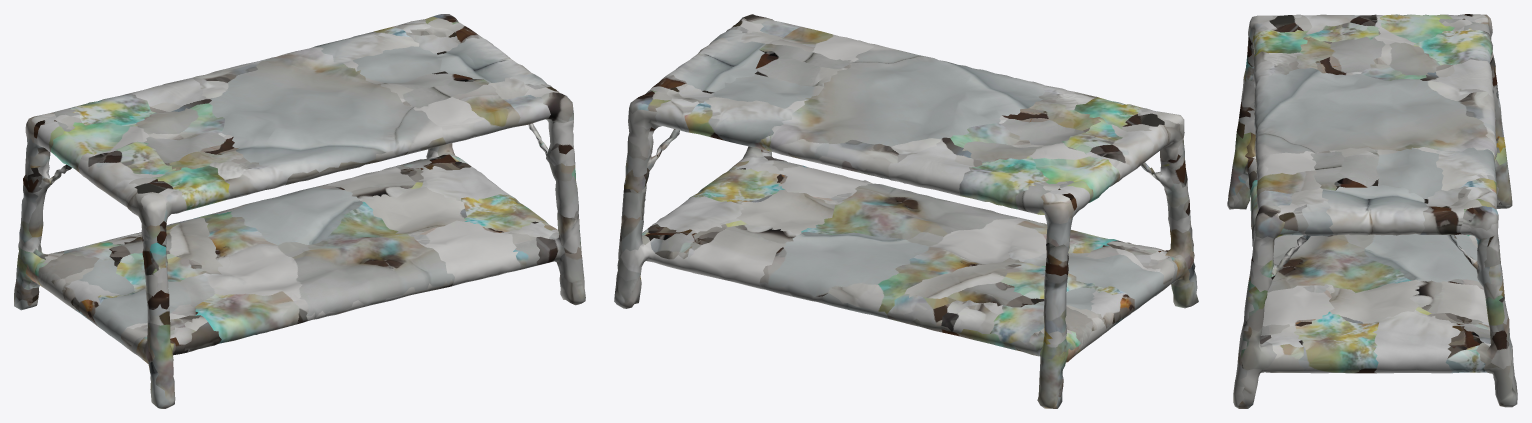
The model's file is Larenda_Coffee_Table_0723210353.obj.
3 views of the same model, side by side, from view 1: azimuth 30°, elevation 25°; view 2: azimuth 150°, elevation 25°; view 3: azimuth 270°, elevation 25° (orthographic). The views are drawn at different scales.
Parts seen in each view (by area): view 1: Mesh_0; view 2: Mesh_0; view 3: Mesh_0.
Part boxes in pixels (box(x1,y1,x2,y2)): Mesh_0: box(14, 14, 585, 408); Mesh_0: box(614, 14, 1198, 408); Mesh_0: box(1227, 14, 1517, 408).
Size of the model in its own units: 1.2 by 0.5319 by 0.7108.
